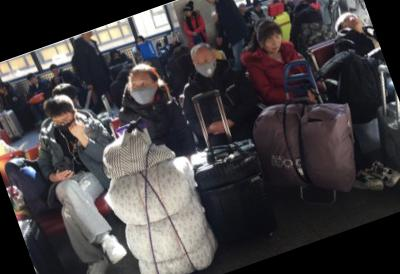with_mask: (125, 73, 160, 108), (192, 52, 221, 82), (51, 113, 78, 140), (136, 37, 145, 47)
without_mask: (260, 30, 288, 56), (338, 10, 364, 35), (28, 75, 38, 86), (52, 67, 60, 76), (254, 3, 262, 11), (184, 8, 191, 17), (239, 7, 247, 14), (113, 52, 120, 60)
